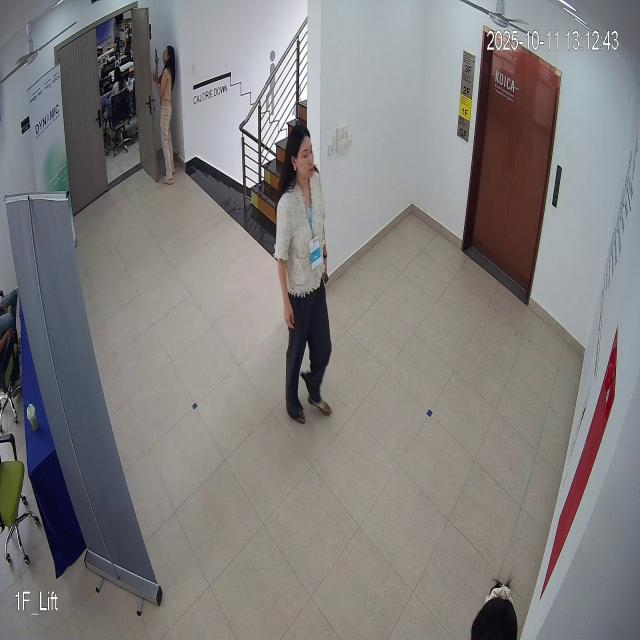face: (284, 118, 322, 190)
